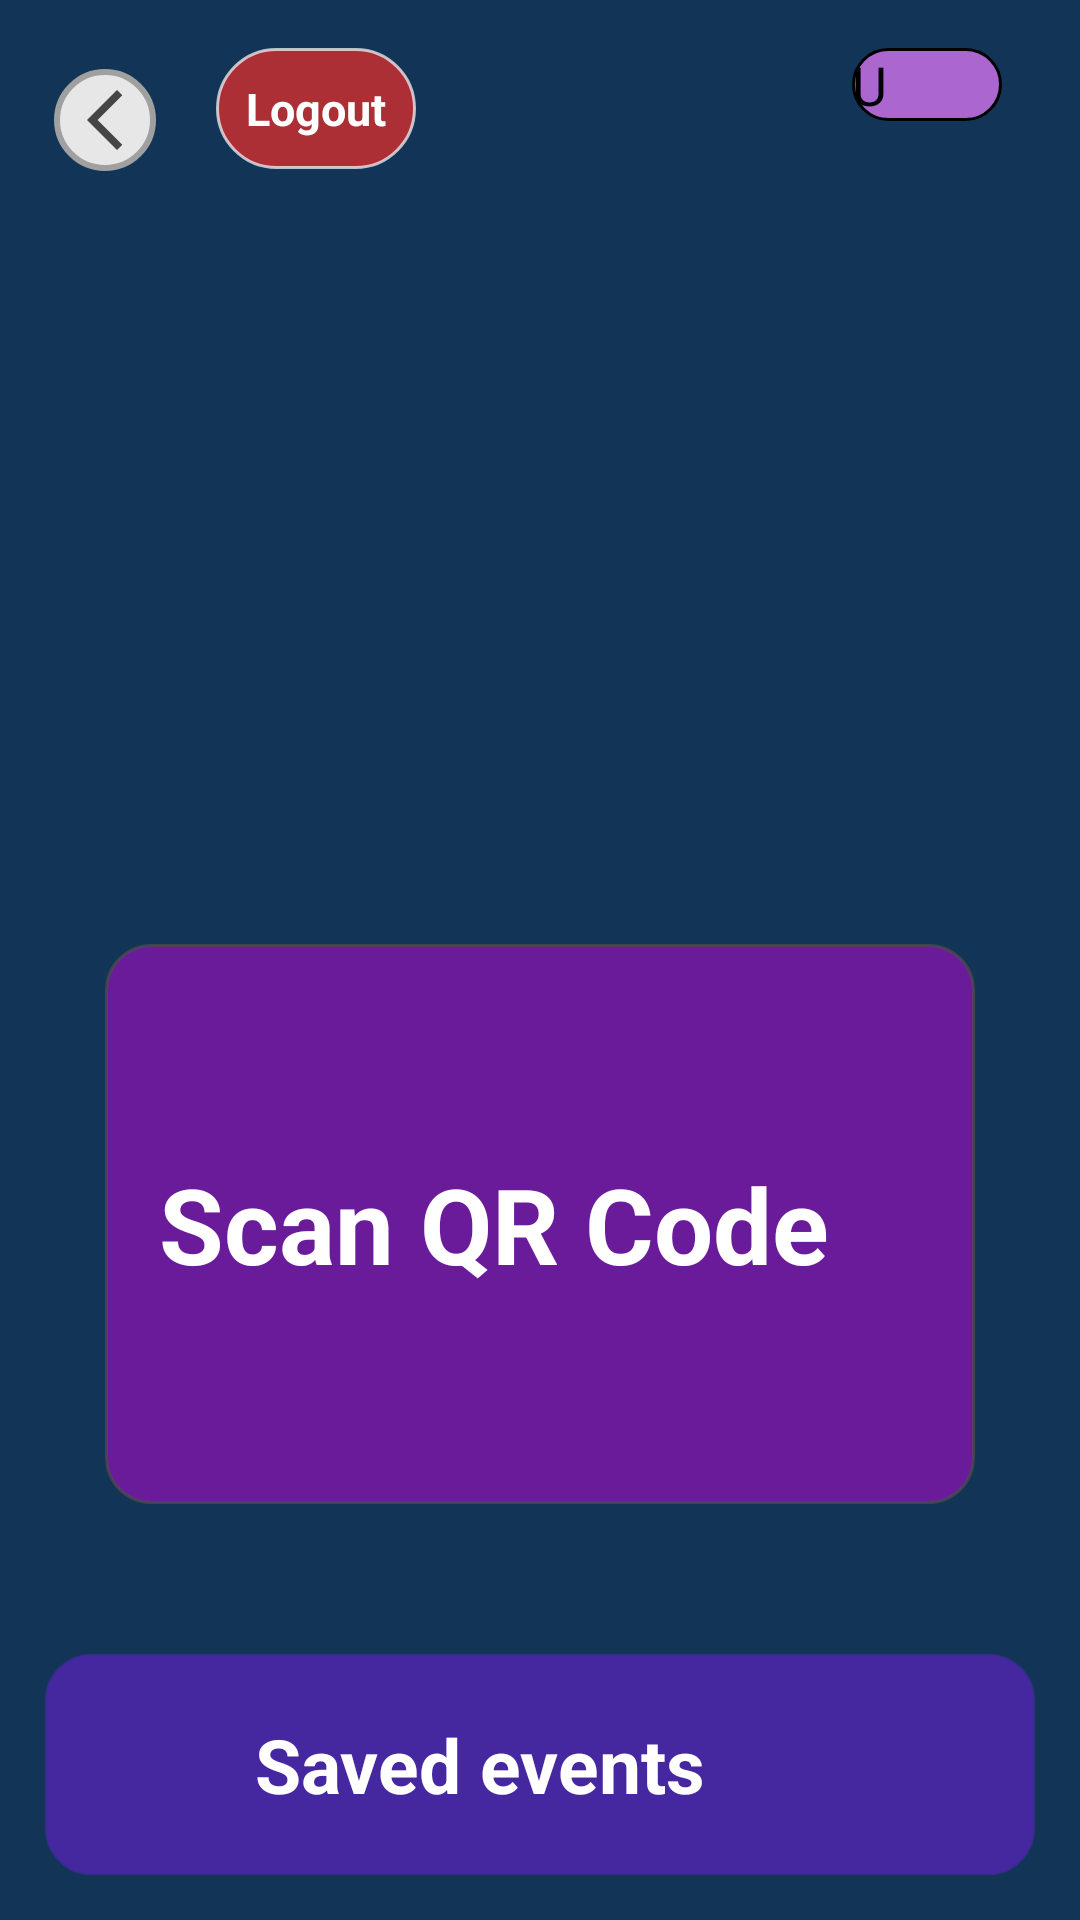

Icons on this 1080 x 1920 Android screen, each with the point to tap as (x,y):
Back: (105,120)
